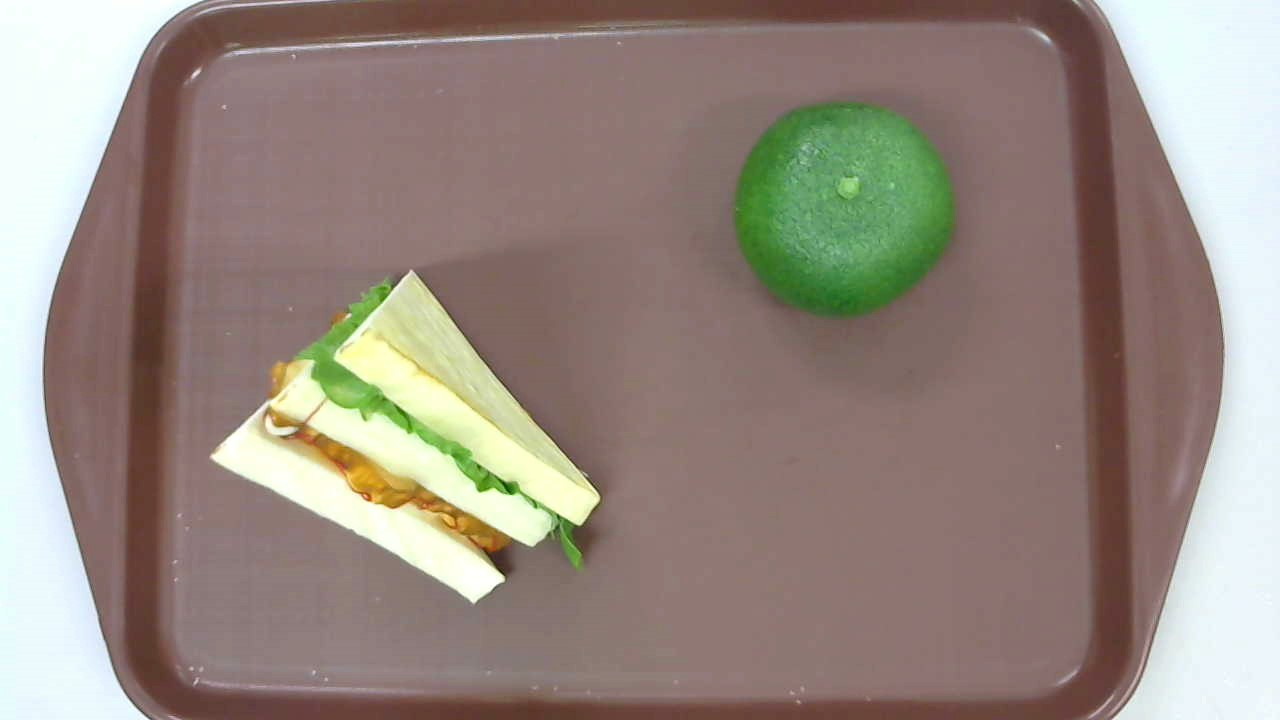green orange: (733, 102, 956, 320)
sandwich: (209, 269, 601, 603)
